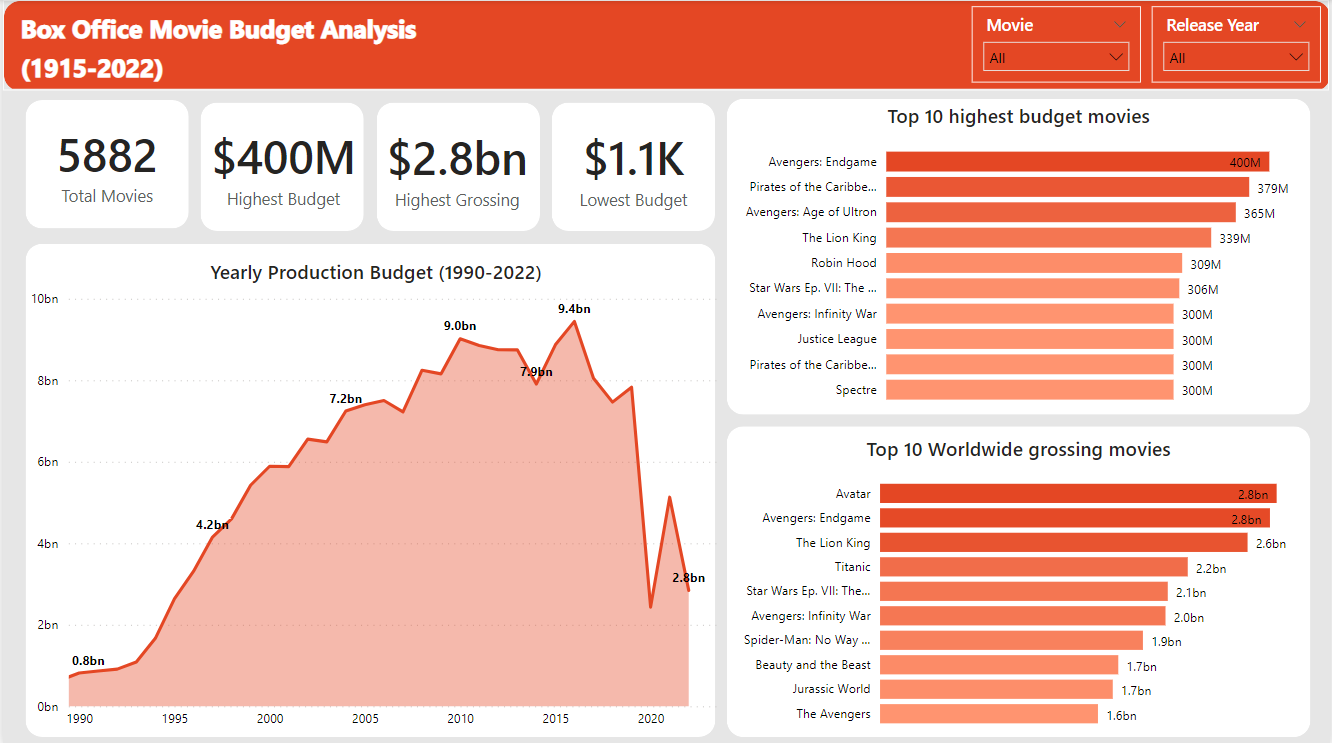

The dashboard page shown, as its layout file describes it:
{"tool":"powerbi","page":{"name":"Page 1","canvas":[1280,720],"ordinal":0},"visuals":[{"type":"shape","box":[21.7,235.2,665.7,476.4],"z":0},{"type":"shape","box":[529.4,98.9,158,124.2],"z":1000},{"type":"shape","box":[360.2,98.9,158,124.2],"z":2000},{"type":"shape","box":[191,98.9,158,124.2],"z":3000},{"type":"shape","box":[0,0,1279.6,86.8],"z":4000},{"type":"shape","box":[21.7,96.5,158,124.2],"z":5000},{"type":"shape","box":[698.3,95.3,563.2,305.1],"z":6000},{"type":"shape","box":[698.3,411.3,563.2,300.3],"z":7000},{"type":"slicer","fields":{"Values":["total_movies.Year"]},"box":[1108.3,6,162.8,73.6],"z":8000},{"type":"card","fields":{"Values":["total_movies.Highest Budget"]},"box":[191.8,98.9,158,124.2],"z":9000},{"type":"card","fields":{"Values":["total_movies.Highest Gross"]},"box":[359.4,100.1,158,124.2],"z":10000},{"type":"card","fields":{"Values":["total_movies.count of movies"]},"box":[21.7,95.3,158,126.6],"z":11000},{"type":"clusteredBarChart","title":"Top 10 highest budget movies","fields":{"Y":["Sum(total_movies.ProductionBudget)"],"Category":["total_movies.Movie"]},"box":[698.3,98.9,563.2,301.5],"z":12000},{"type":"card","fields":{"Values":["total_movies.Lowest Budget"]},"box":[529.4,100.1,158,124.2],"z":13000},{"type":"clusteredBarChart","title":"Top 10 Worldwide grossing movies","fields":{"Category":["total_movies.Movie"],"Y":["Sum(total_movies.WorldwideGross)"]},"box":[698.3,419.7,563.2,293.1],"z":14000},{"type":"areaChart","title":"Yearly Production Budget (1990-2022)","fields":{"Category":["total_movies.ReleaseDate.Variation.Date Hierarchy.Year"],"Y":["Sum(total_movies.ProductionBudget)"]},"box":[21.7,249.6,676.6,461.9],"z":15000},{"type":"textbox","box":[12.1,6,426.9,47],"z":16000},{"type":"textbox","box":[12.1,43.4,388.3,43.4],"z":17000},{"type":"slicer","fields":{"Values":["total_movies.Movie"]},"box":[934.7,6,162.8,73.6],"z":18000}]}

Visuals, with their boxes in screenshot pixels (x1, y1, x2, y2), scaled from the page's 1280x720 canvas onto the 1332x743 screenshot:
shape: 23:243:715:734
shape: 551:102:715:230
shape: 375:102:539:230
shape: 199:102:363:230
shape: 0:0:1331:90
shape: 23:100:187:228
shape: 727:98:1313:413
shape: 727:424:1313:734
slicer - total_movies.Year: 1153:6:1323:82
card - total_movies.Highest Budget: 200:102:364:230
card - total_movies.Highest Gross: 374:103:538:231
card - total_movies.count of movies: 23:98:187:229
"Top 10 highest budget movies" clusteredBarChart: 727:102:1313:413
card - total_movies.Lowest Budget: 551:103:715:231
"Top 10 Worldwide grossing movies" clusteredBarChart: 727:433:1313:736
"Yearly Production Budget (1990-2022)" areaChart: 23:258:727:734
textbox: 13:6:457:55
textbox: 13:45:417:90
slicer - total_movies.Movie: 973:6:1142:82
